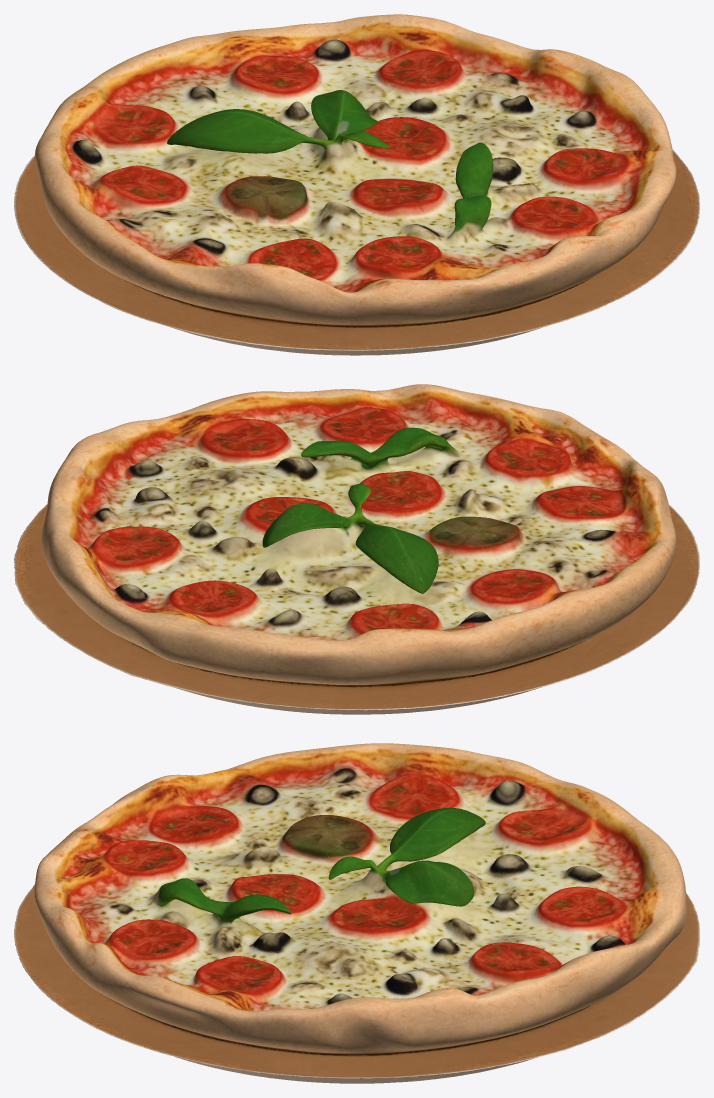
File: pizza01.glb
3 renders of one model, top to bottom at view 1: azimuth 30°, elevation 25°; view 2: azimuth 150°, elevation 25°; view 3: azimuth 270°, elevation 25°, orthographic.
Size of the model in its own units: 1.88 by 0.3299 by 1.88.
Materials: 1 (1 with a texture image).
